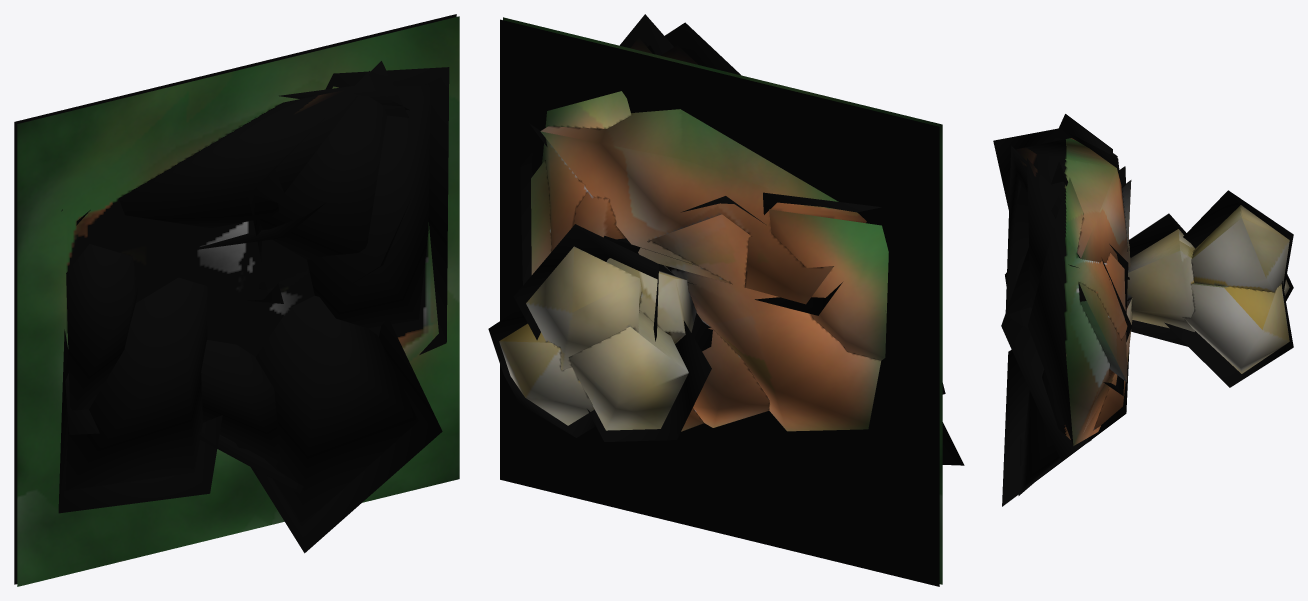
Rendered from Gase 1.fbx.
The picture shows the model from 3 angles, left to right: view 1: azimuth 30°, elevation 25°; view 2: azimuth 150°, elevation 25°; view 3: azimuth 270°, elevation 25°; orthographic projection. The views are drawn at different scales.
Parts seen in each view (by area): view 1: Building.007; view 2: Building.007; view 3: Building.007.
Part boxes in pixels (<box>): Building.007: <box>14,14,459,586</box>; Building.007: <box>488,14,964,586</box>; Building.007: <box>993,114,1293,506</box>.
Bounding box in the file's own units: 100 × 101 × 69.72.
